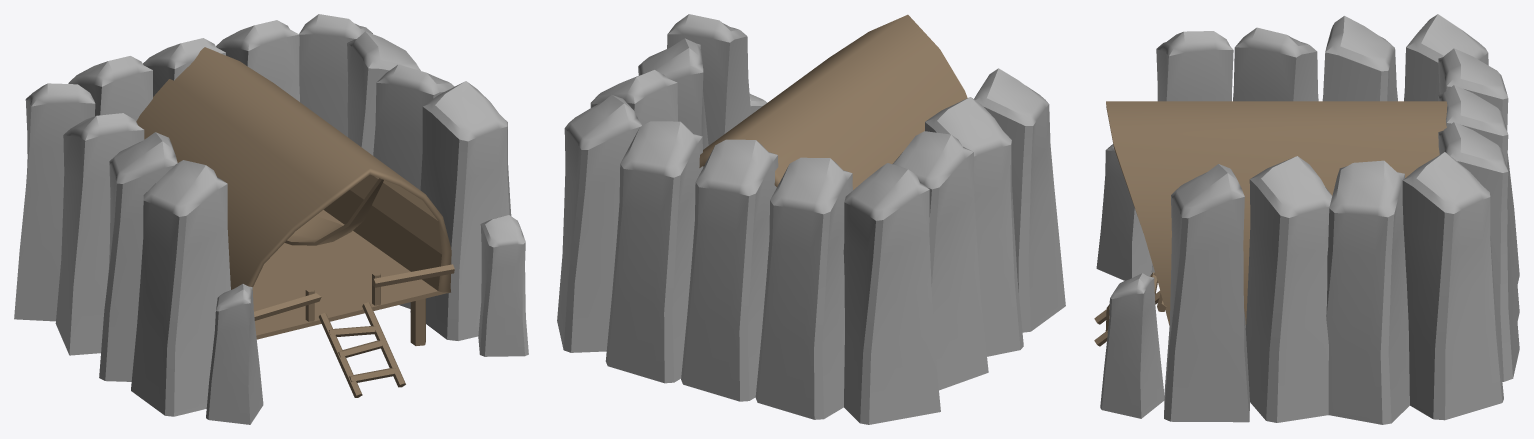
The model's file is SM_Hut-1_Other_01.fbx.
3 renders of one model, left to right at view 1: azimuth 30°, elevation 25°; view 2: azimuth 150°, elevation 25°; view 3: azimuth 270°, elevation 25°, orthographic. The views are drawn at different scales.
Parts seen in each view (by area): view 1: group87_pasted__pCylinder10; view 2: group87_pasted__pCylinder10; view 3: group87_pasted__pCylinder10.
Part boxes in pixels (x1,y1,x2,y2): group87_pasted__pCylinder10: [14, 14, 528, 424]; group87_pasted__pCylinder10: [557, 14, 1065, 424]; group87_pasted__pCylinder10: [1094, 14, 1519, 424].
Size of the model in its own units: 6.85 by 3.95 by 6.41.
